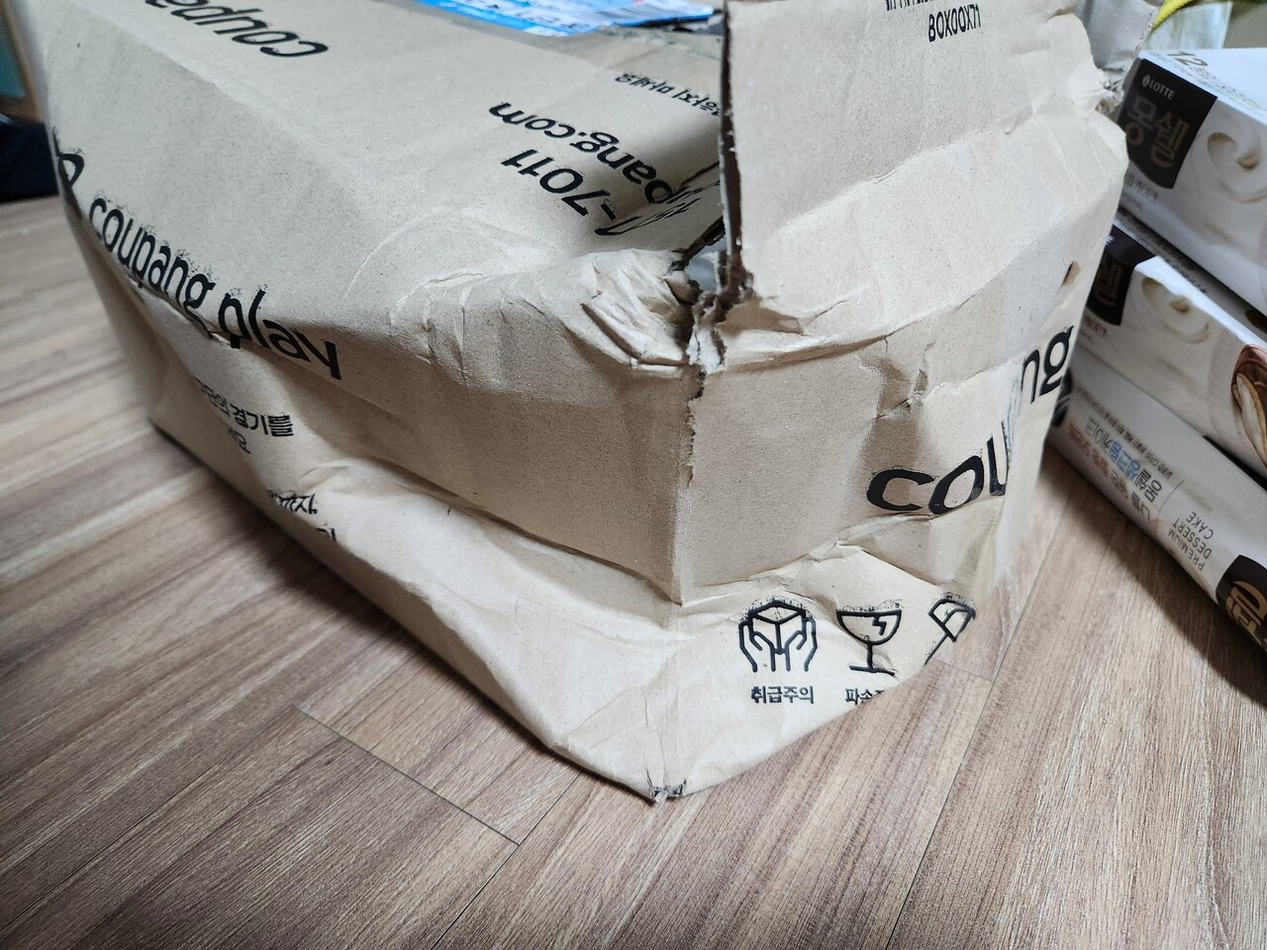damaged package: (661, 0, 754, 376)
